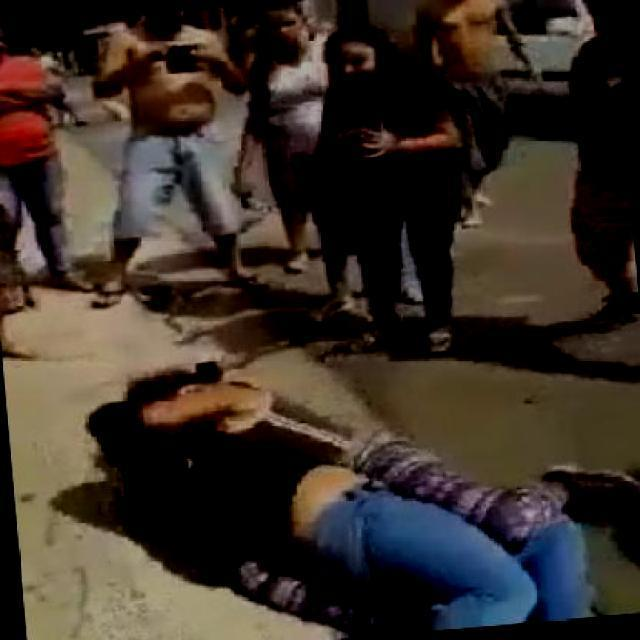fight: (76, 324, 638, 638)
non-fight: (300, 18, 492, 364)
